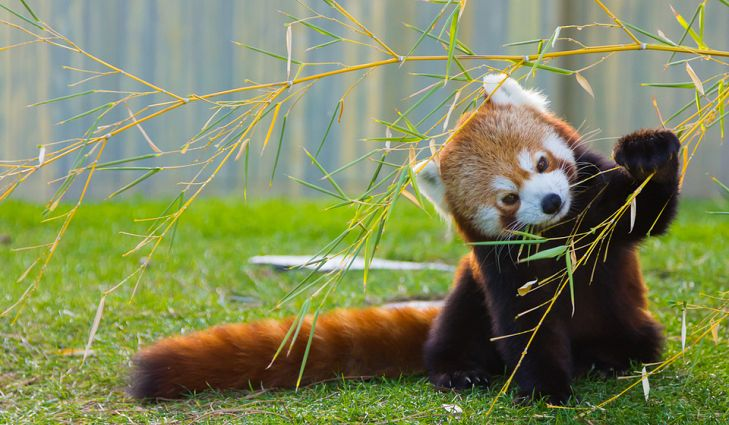red_panda: (219, 93, 671, 391)
